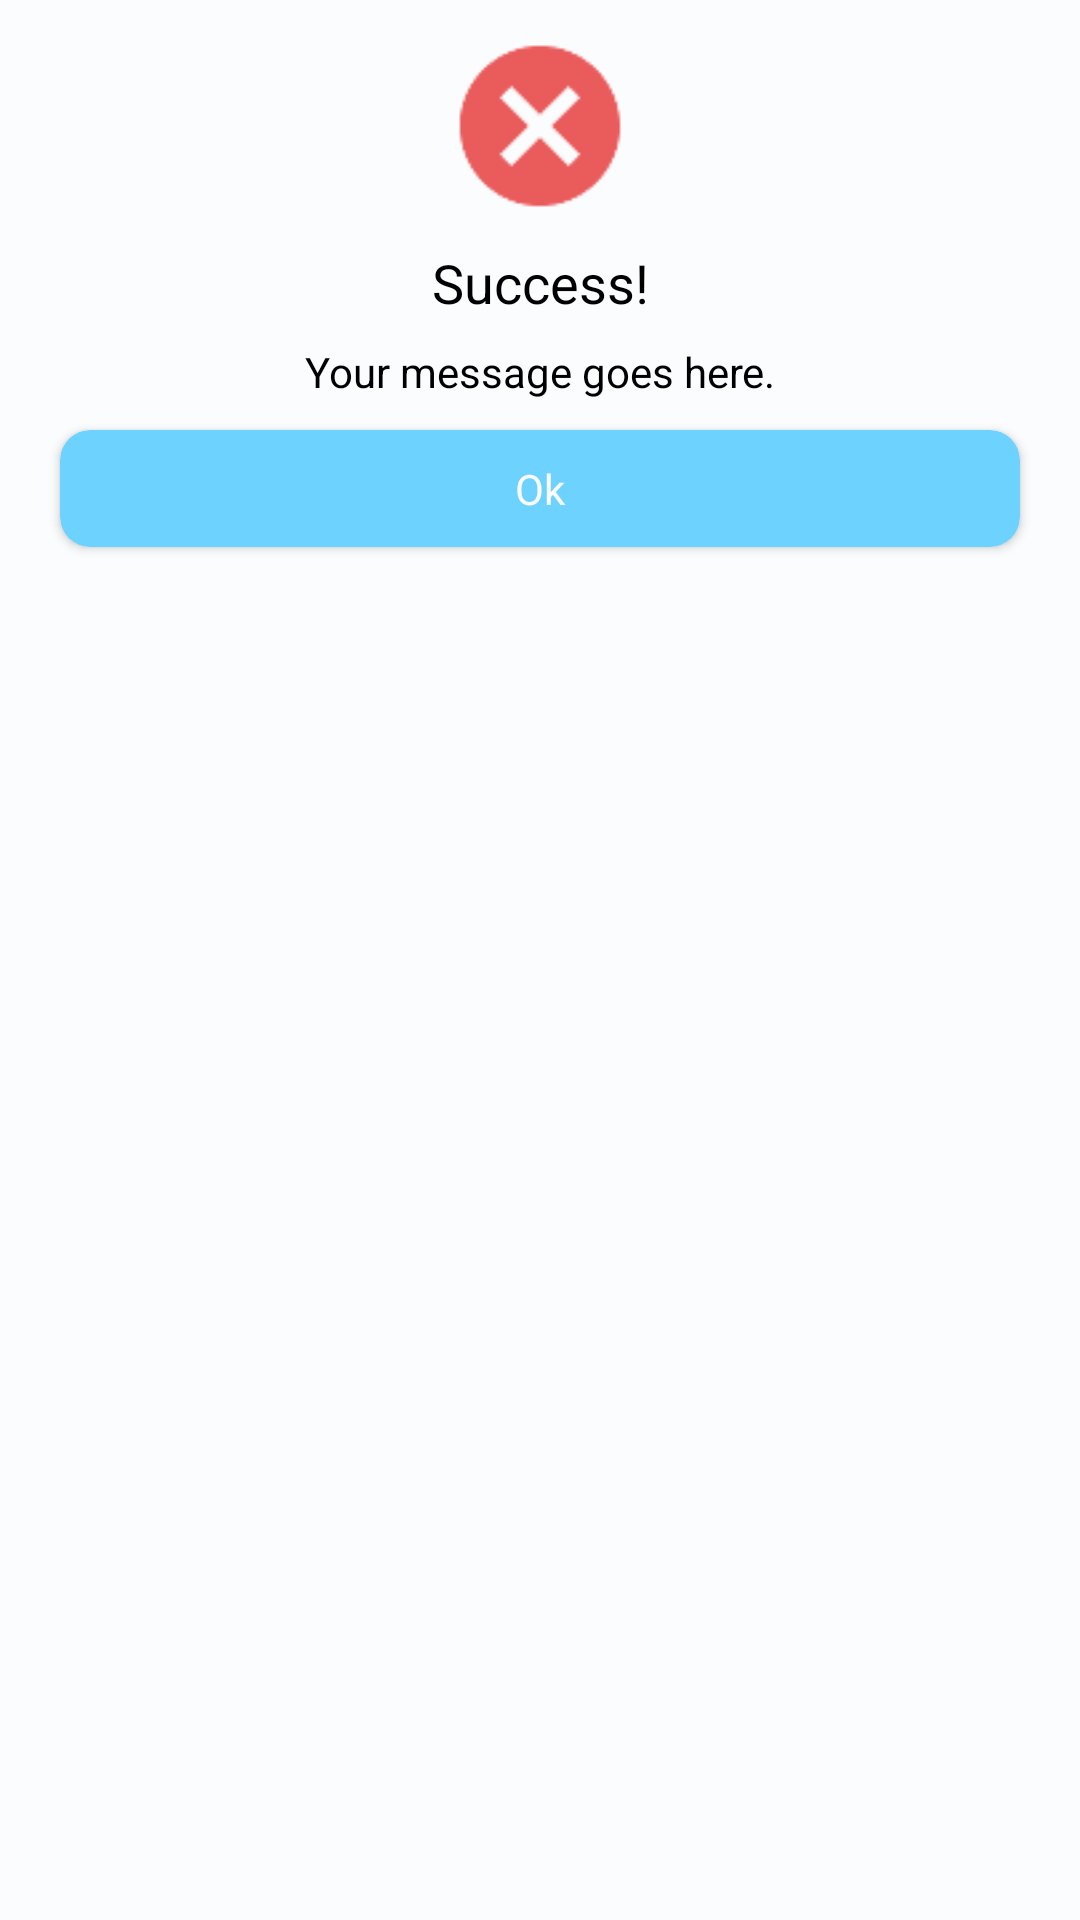

Point at icon controls on the screen. Image size 1080px×1920px, points as (x=x, y=y).
Failed Icon: (x=540, y=126)
